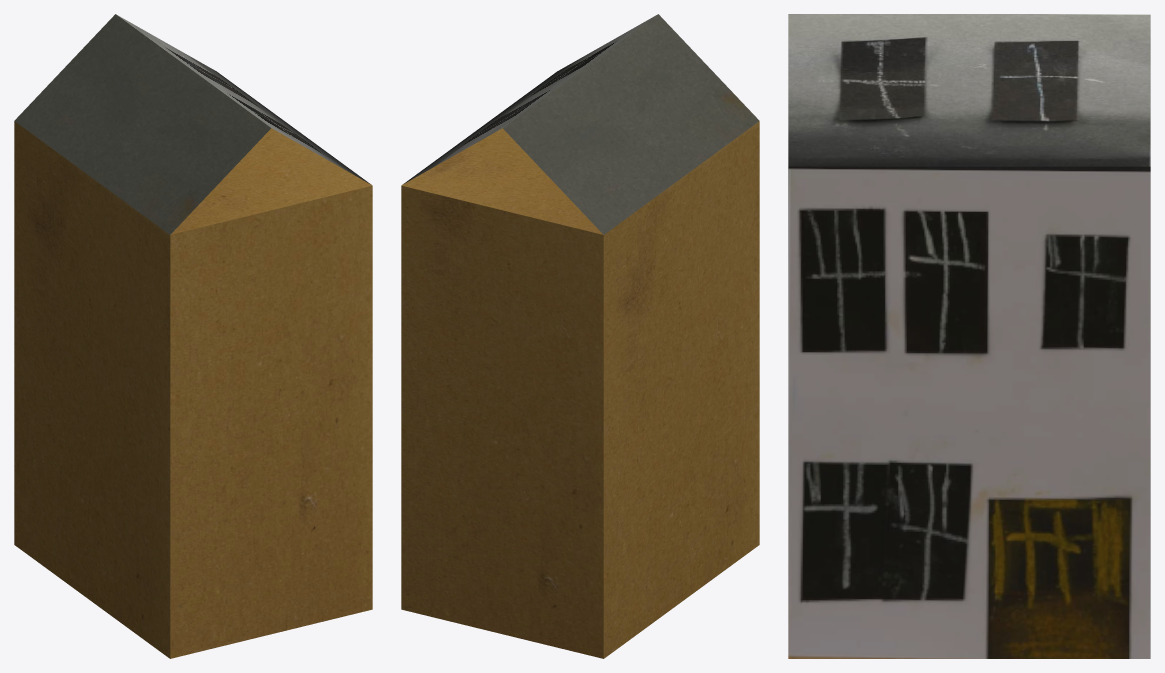
The picture shows the model from 3 angles, left to right: view 1: azimuth 30°, elevation 25°; view 2: azimuth 150°, elevation 25°; view 3: azimuth 270°, elevation 25°; orthographic projection. The views are drawn at different scales.
Parts seen in each view (by area): view 1: Cube; view 2: Cube; view 3: Cube.
Part boxes in pixels (x1,y1,x2,y2): Cube: [14, 14, 372, 658]; Cube: [401, 14, 759, 658]; Cube: [788, 14, 1150, 658].
Size of the model in its own units: 7.5 by 17.91 by 10.
1 material, 1 textured.
